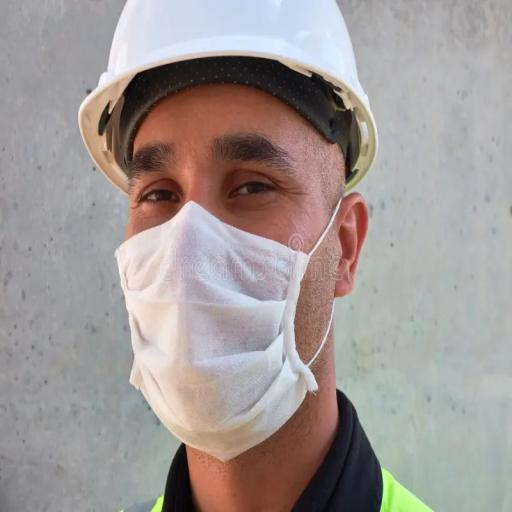mask: (110, 200, 324, 458)
